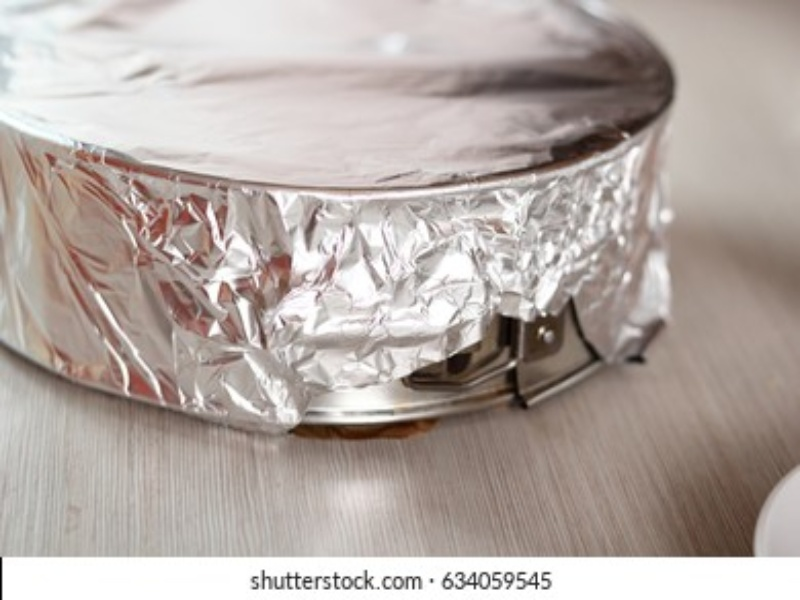Aluminium_Foil: (1, 3, 686, 443), (136, 119, 671, 330), (40, 37, 472, 288)
